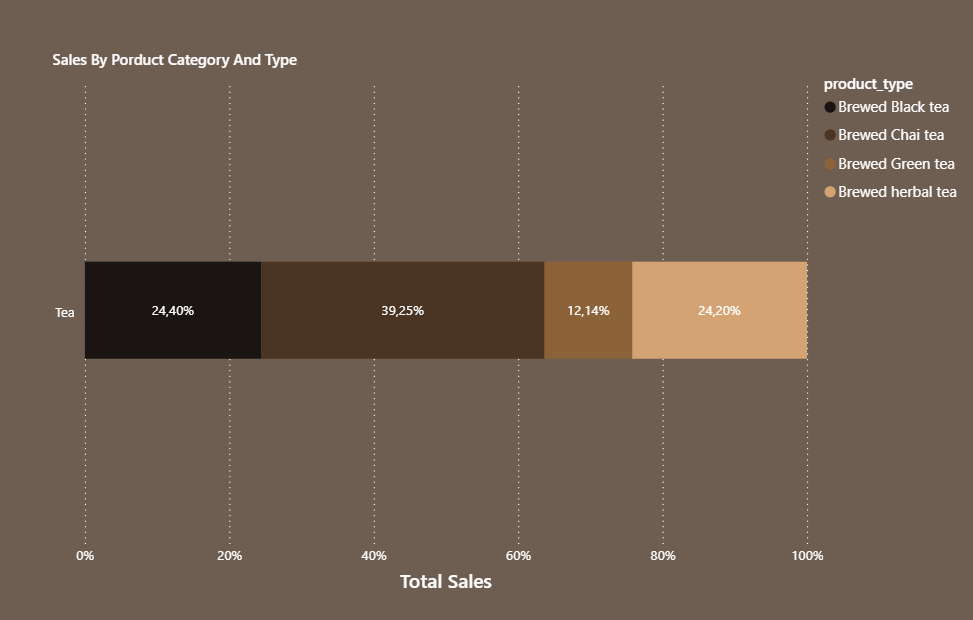

This screenshot's page, from the dashboard's own definition file:
{"tool":"powerbi","page":{"name":"Product type","canvas":[1280,720],"ordinal":2},"visuals":[{"type":"hundredPercentStackedBarChart","title":"Sales By Porduct Category And Type","fields":{"Y":["Transactions.Total Sales"],"Category":["Transactions.product_category"],"Series":["Transactions.product_type"]},"box":[232.5,102.3,831.3,492.9],"z":0},{"type":"actionButton","box":[0,2.7,99.7,40.4],"z":1000}]}

Visuals, with their boxes on the page's 1280x720 design canvas (x1, y1, x2, y2). These are canvas units, not pixel positions in the 973x620 screenshot, which may show the page scaled, cropped or inside an application window:
"Sales By Porduct Category And Type" hundredPercentStackedBarChart: 232:102:1064:595
actionButton: 0:3:100:43
